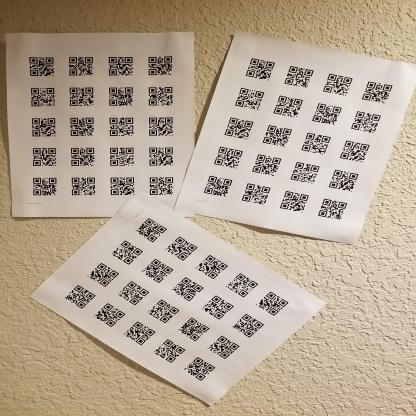qr: (85, 258, 123, 289), (222, 267, 262, 296), (132, 213, 169, 244), (114, 277, 152, 307), (228, 312, 267, 340), (218, 114, 256, 142), (194, 253, 232, 281), (327, 165, 361, 196), (360, 75, 395, 105), (111, 238, 146, 268), (207, 331, 243, 360), (231, 84, 268, 112), (139, 256, 176, 284), (258, 120, 293, 149), (255, 288, 290, 317), (164, 233, 200, 261), (336, 138, 373, 165), (151, 337, 188, 364), (147, 297, 181, 326), (93, 301, 128, 329), (200, 293, 235, 321), (63, 282, 99, 309), (181, 356, 218, 382), (283, 61, 316, 90), (321, 70, 355, 98), (272, 91, 306, 119), (298, 128, 333, 155), (178, 317, 214, 343), (316, 195, 349, 223), (171, 274, 204, 302), (244, 54, 278, 81), (289, 158, 324, 184), (351, 107, 383, 135), (121, 320, 158, 344), (211, 143, 246, 168), (249, 154, 285, 178), (202, 172, 234, 199), (279, 188, 313, 213), (240, 181, 272, 205), (109, 174, 137, 200), (147, 114, 177, 138), (312, 102, 342, 126), (70, 144, 98, 169), (30, 85, 57, 110), (148, 173, 176, 197), (146, 145, 176, 167), (32, 145, 59, 169), (27, 54, 55, 77), (146, 55, 174, 78), (30, 115, 58, 138), (69, 83, 95, 107), (109, 145, 136, 168), (67, 54, 95, 76), (107, 55, 135, 77), (109, 115, 135, 138), (68, 116, 95, 138), (70, 174, 97, 196), (109, 86, 134, 109), (149, 84, 174, 107), (32, 176, 58, 195)
